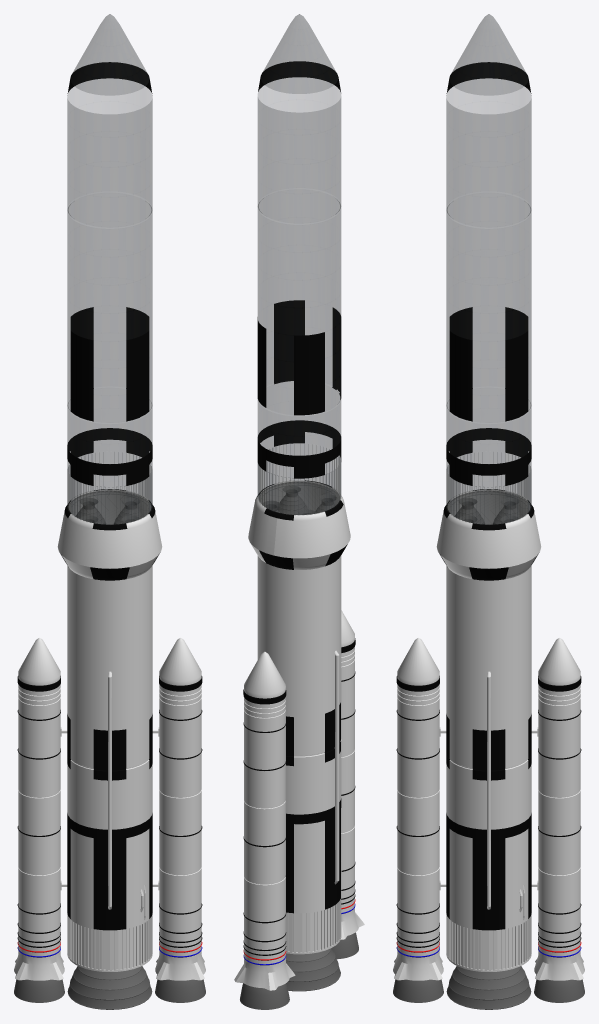
File: prestarship.glb
3 renders of one model, left to right at view 1: azimuth 90°, elevation 25°; view 2: azimuth 150°, elevation 25°; view 3: azimuth 270°, elevation 25°, orthographic.
Parts seen in each view (by area): view 1: 03-Second-stage, 01-First-stage, Rocket-01, Rocket-02, 02-Join, 02-Join-02, pipe-03bis; view 2: 03-Second-stage, 01-First-stage, Rocket-02, Rocket-01, 02-Join, 02-Join-02, pipe-03bis; view 3: 03-Second-stage, 01-First-stage, Rocket-01, Rocket-02, 02-Join-02, 02-Join, pipe-03.
Boxes of the visible parts, left/top/right/bottom form: 03-Second-stage: left=67, top=14, right=152, bottom=524; 01-First-stage: left=67, top=565, right=152, bottom=1009; Rocket-01: left=155, top=638, right=205, bottom=1002; Rocket-02: left=14, top=638, right=64, bottom=1002; 02-Join: left=57, top=507, right=162, bottom=580; 02-Join-02: left=64, top=489, right=155, bottom=524; pipe-03bis: left=108, top=671, right=111, bottom=909; 03-Second-stage: left=257, top=14, right=341, bottom=515; 01-First-stage: left=257, top=555, right=341, bottom=991; Rocket-02: left=234, top=651, right=295, bottom=1009; Rocket-01: left=331, top=610, right=364, bottom=959; 02-Join: left=274, top=483, right=350, bottom=569; 02-Join-02: left=248, top=480, right=321, bottom=567; pipe-03bis: left=334, top=650, right=339, bottom=884; 03-Second-stage: left=446, top=14, right=531, bottom=524; 01-First-stage: left=446, top=565, right=531, bottom=1009; Rocket-01: left=393, top=638, right=443, bottom=1002; Rocket-02: left=534, top=638, right=584, bottom=1002; 02-Join-02: left=436, top=507, right=541, bottom=580; 02-Join: left=443, top=489, right=534, bottom=524; pipe-03: left=487, top=671, right=490, bottom=909.
Bounding box in the file's own units: 24.46 × 252 × 44.9.
Materials: 13 (1 with a texture image).
